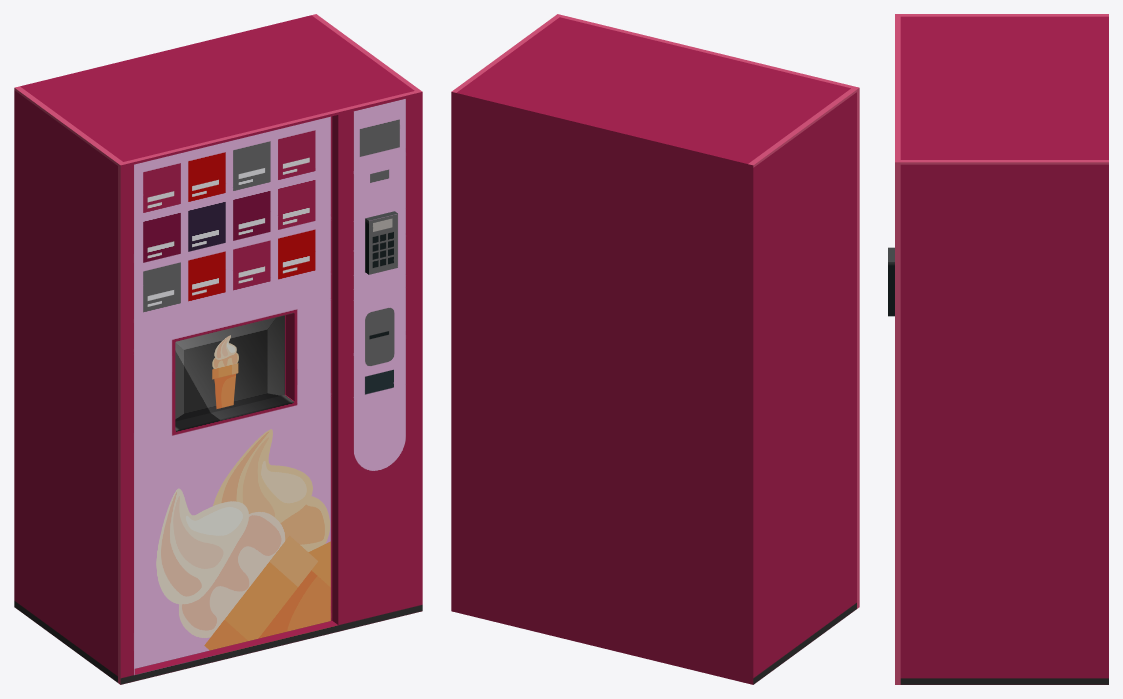
File: IceCreamMachine.fbx
The picture shows the model from 3 angles, left to right: view 1: azimuth 30°, elevation 25°; view 2: azimuth 150°, elevation 25°; view 3: azimuth 270°, elevation 25°; orthographic projection.
Visible parts, largest first — view 1: IceCreamMachine; view 2: IceCreamMachine; view 3: IceCreamMachine.
Boxes of the visible parts, <box> form: IceCreamMachine: <box>14,14,422,684</box>; IceCreamMachine: <box>451,14,859,684</box>; IceCreamMachine: <box>888,14,1108,684</box>.
Size of the model in its own units: 302 by 497 by 190.
Materials: 2 (1 with a texture image).
